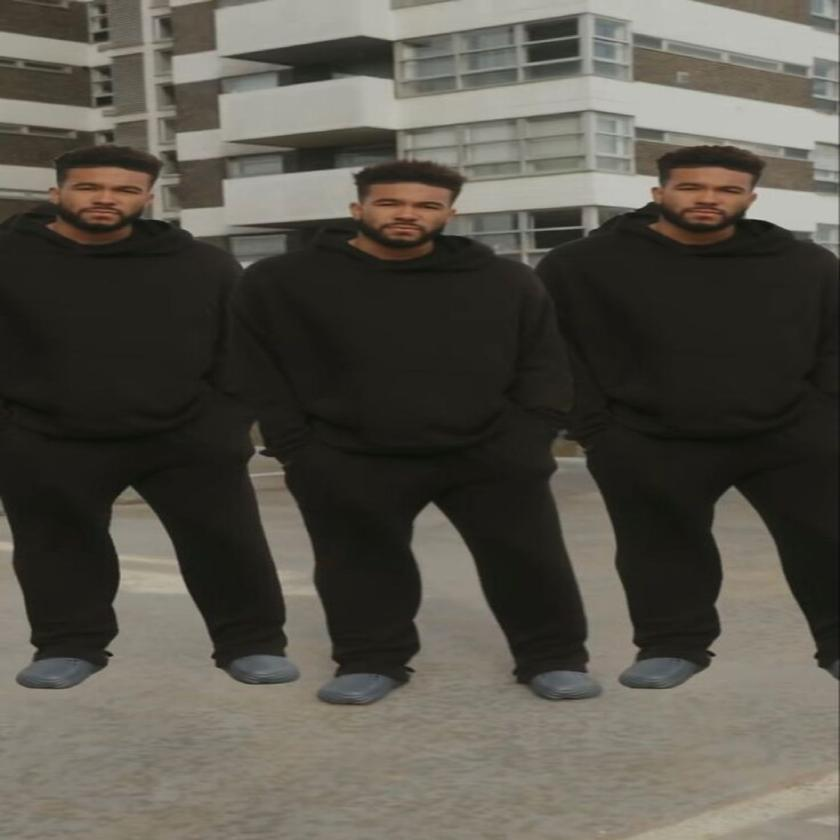Sin_casco: (46, 148, 174, 252), (344, 158, 472, 260), (644, 139, 769, 240)
